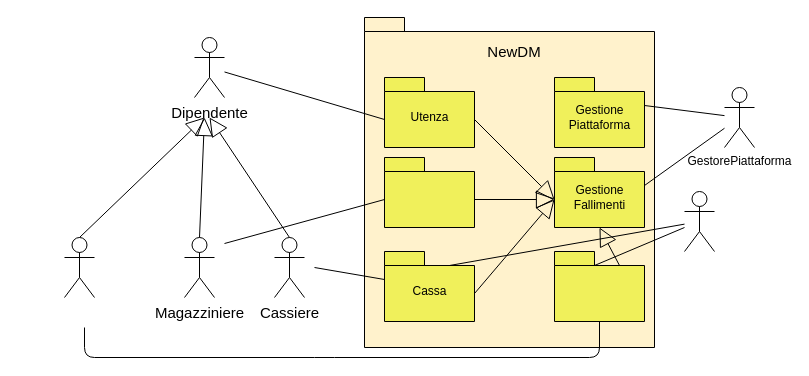
This 809x376 diagram has some shape labels left out. Here are the shapes that lost their labels. From the top down, the box of each, then its label:
(384, 156, 474, 228): Magazzino
(684, 190, 714, 252): Cliente
(64, 236, 94, 298): AddettoAssistenza
(554, 250, 644, 322): Assistenza
